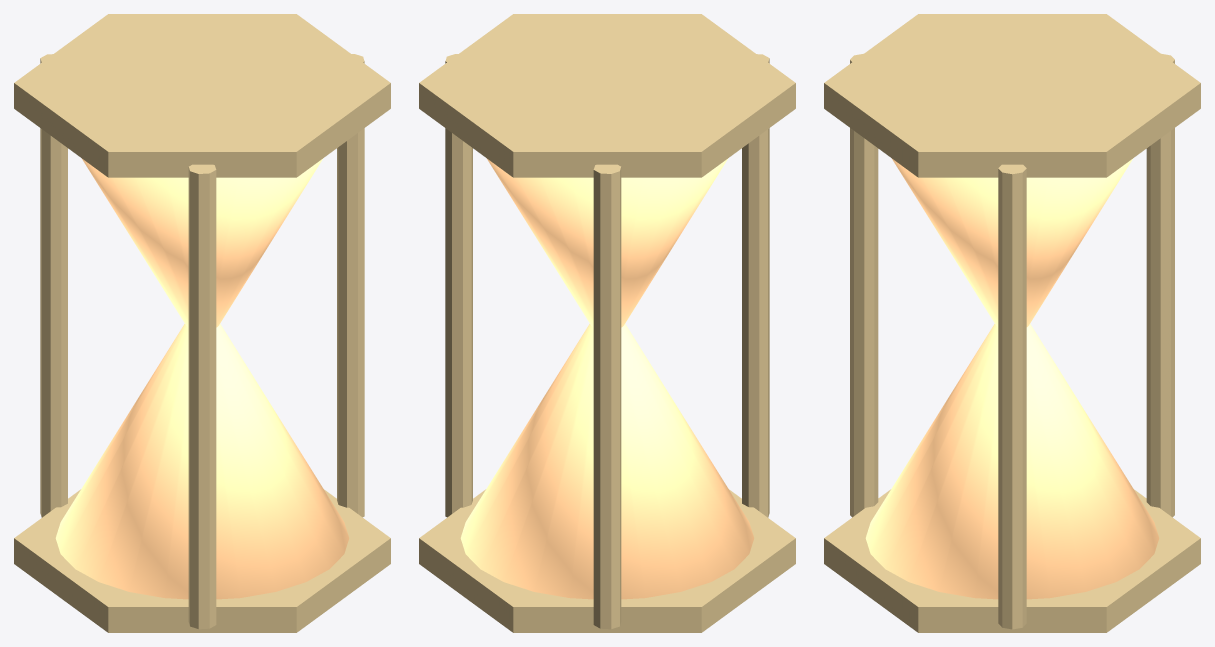
The model's file is relic_5.glb.
3 renders of one model, left to right at view 1: azimuth 30°, elevation 25°; view 2: azimuth 150°, elevation 25°; view 3: azimuth 270°, elevation 25°, orthographic.
Parts seen in each view (by area): view 1: Cone; view 2: Cone; view 3: Cone.
Part boxes in pixels (x1,y1,x2,y2): Cone: [14, 14, 390, 632]; Cone: [419, 14, 795, 632]; Cone: [824, 14, 1200, 632].
Bounding box in the file's own units: 0.7224 × 1.1 × 0.7806.
